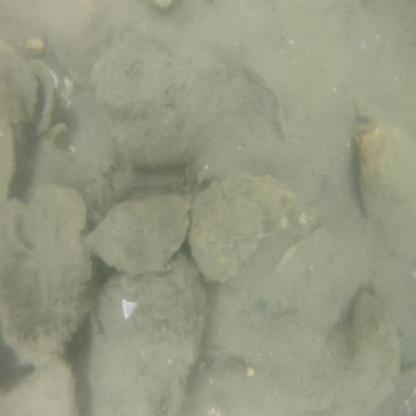Oyster-Closed: (91, 42, 229, 178), (90, 255, 203, 416), (1, 185, 93, 364), (189, 174, 295, 278), (88, 195, 187, 276), (336, 294, 396, 411)
Oyster-Open: (17, 61, 56, 131)
